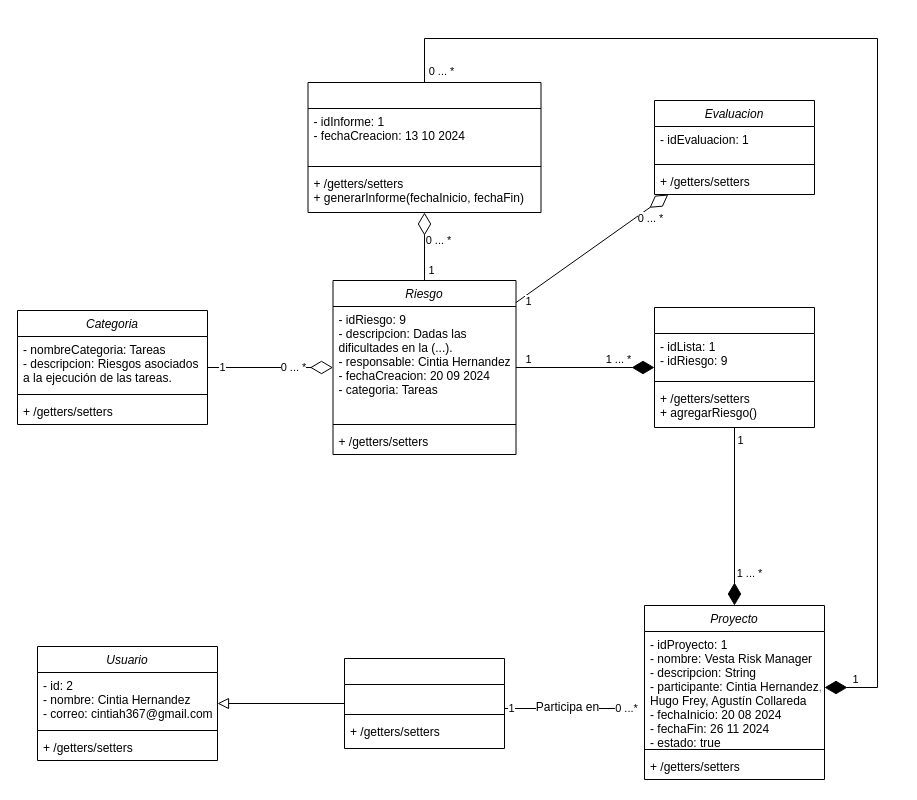
Some shapes in this 917 by 800 pixel diagram are drawn without their labels. The shapes that lost their labels are listed below. From the top down, each one's box as (x1, y1, x2, y2) in pixels, then its label:
(307, 82, 541, 212): Incidencia
(654, 306, 814, 428): ListaRiesgos
(344, 658, 504, 748): UsuarioEstandar
